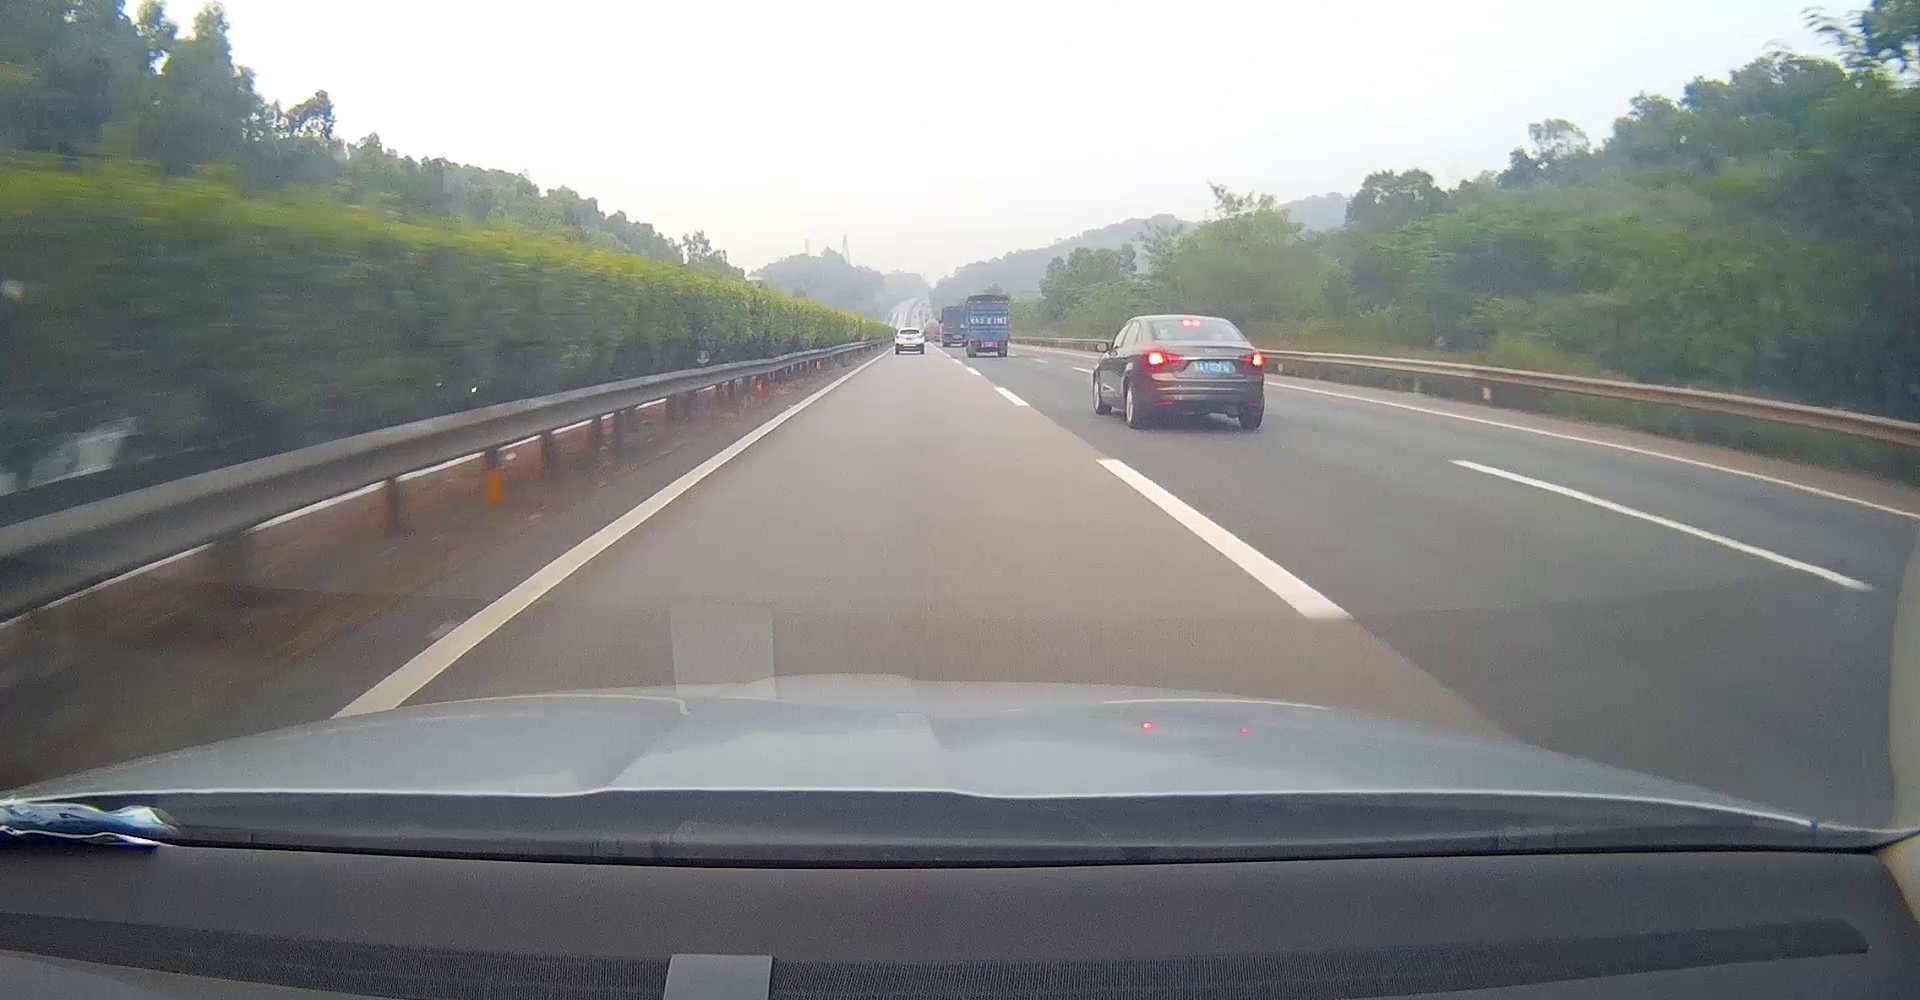L_light: (1149, 352, 1183, 365), (973, 341, 979, 345), (897, 336, 902, 339)
R_light: (1238, 353, 1263, 365), (999, 341, 1006, 345), (917, 335, 923, 338)
T_light: (1183, 320, 1200, 325), (985, 296, 992, 299), (907, 329, 910, 331)
day-brake: (1145, 315, 1265, 429)
day-no: (968, 294, 1010, 357), (895, 327, 924, 354)
